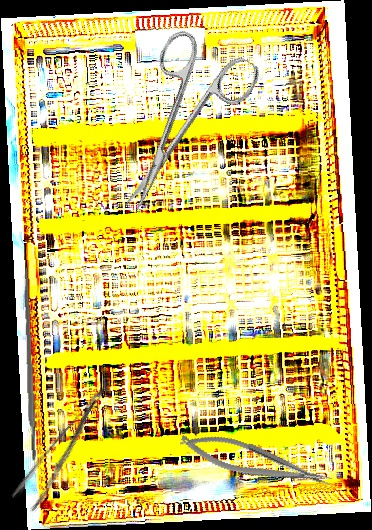Dressing Forceps: (8, 385, 125, 515)
Iris Scissors: (87, 21, 264, 229)
Needle Holder: (176, 422, 335, 502)
Scalpel Handle: (22, 266, 37, 462)
